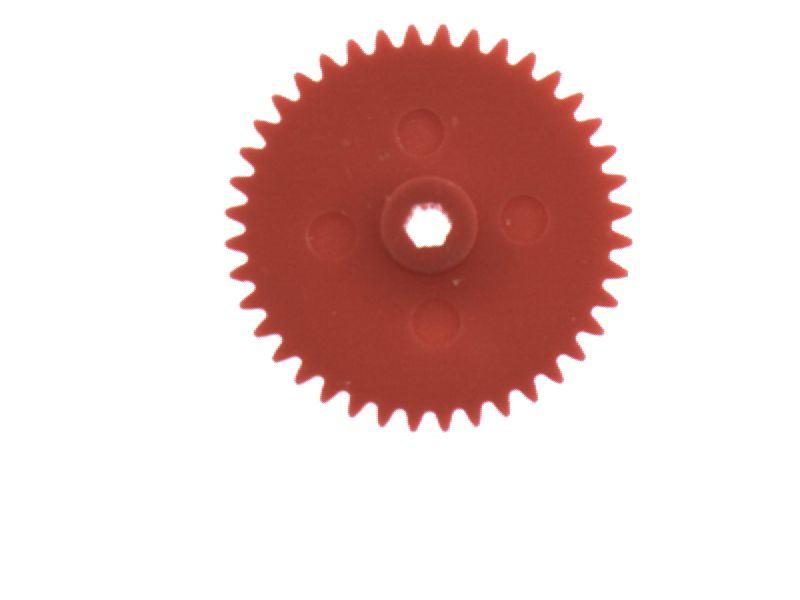good_product: (212, 7, 645, 445)
